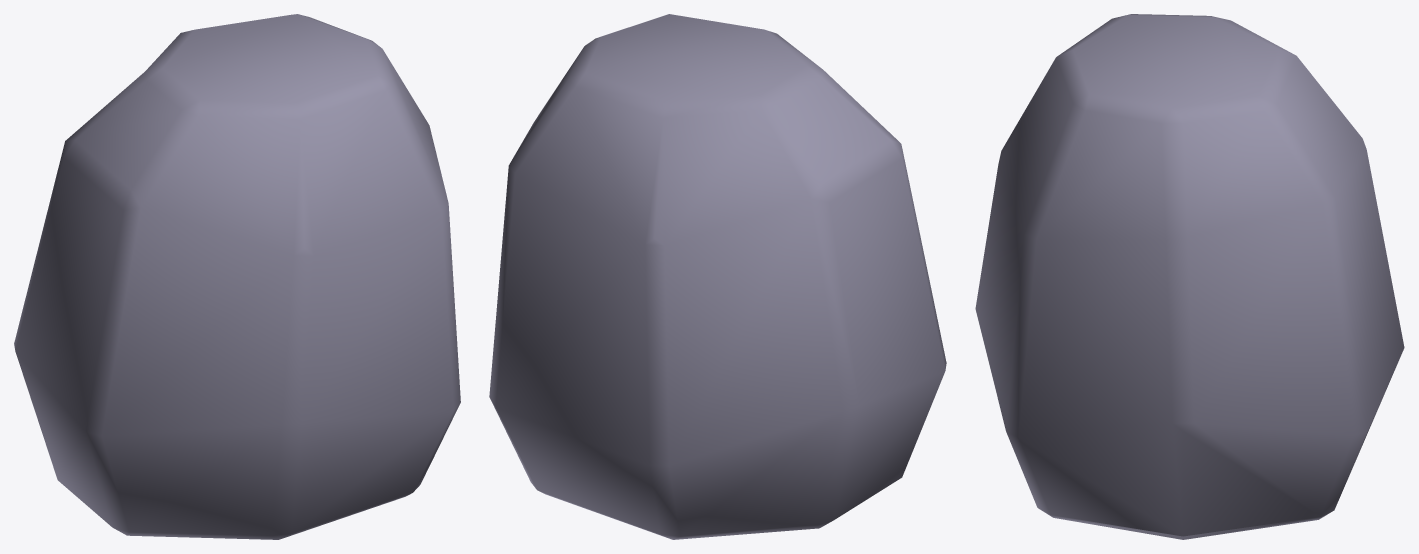
The model's file is rock_small_01.glb.
3 views of the same model, side by side, from view 1: azimuth 30°, elevation 25°; view 2: azimuth 150°, elevation 25°; view 3: azimuth 270°, elevation 25° (orthographic). The views are drawn at different scales.
Visible parts, largest first — view 1: rock_small_01; view 2: rock_small_01; view 3: rock_small_01.
Boxes of the visible parts, bbox=[...] form: rock_small_01: bbox=[14, 14, 460, 539]; rock_small_01: bbox=[489, 14, 946, 539]; rock_small_01: bbox=[975, 14, 1404, 539].
Bounding box in the file's own units: 0.2377 × 0.24 × 0.2229.
